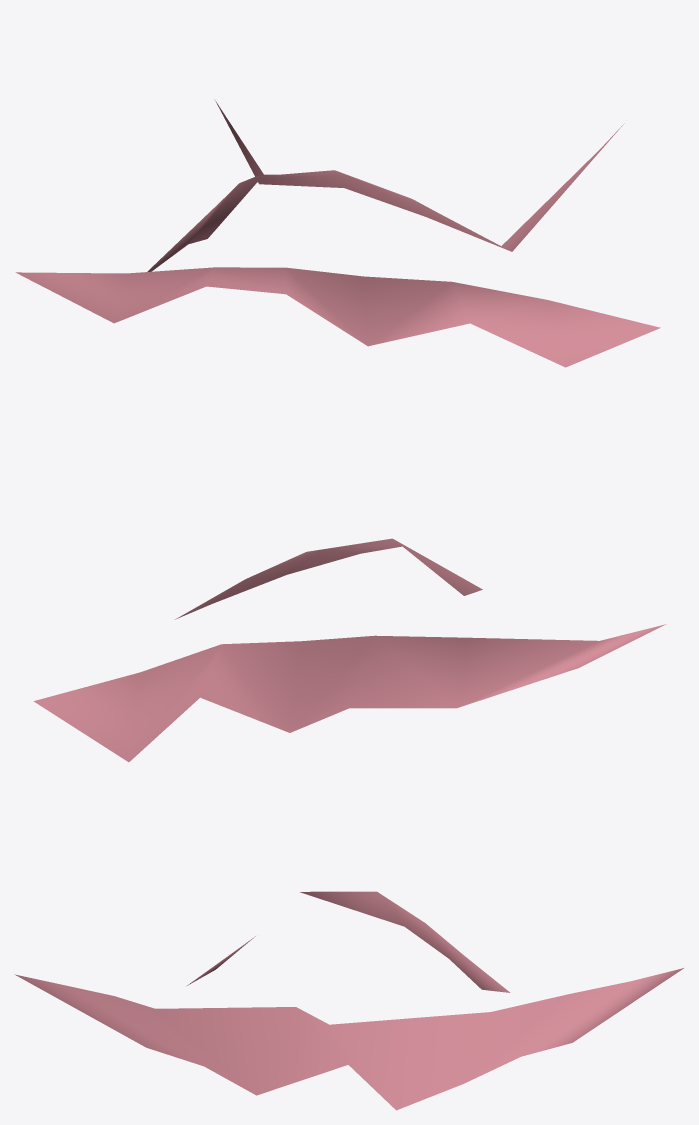
The model's file is component-03-upper.glb.
3 renders of one model, top to bottom at view 1: azimuth 30°, elevation 25°; view 2: azimuth 150°, elevation 25°; view 3: azimuth 270°, elevation 25°, orthographic. The views are drawn at different scales.
Visible parts, largest first — view 1: component-03-upper; view 2: component-03-upper; view 3: component-03-upper.
Part boxes in pixels (<box>): component-03-upper: <box>15,99,660,367</box>; component-03-upper: <box>33,538,666,762</box>; component-03-upper: <box>14,891,683,1110</box>.
Size of the model in its own units: 0.0597 by 0.0138 by 0.0725.
